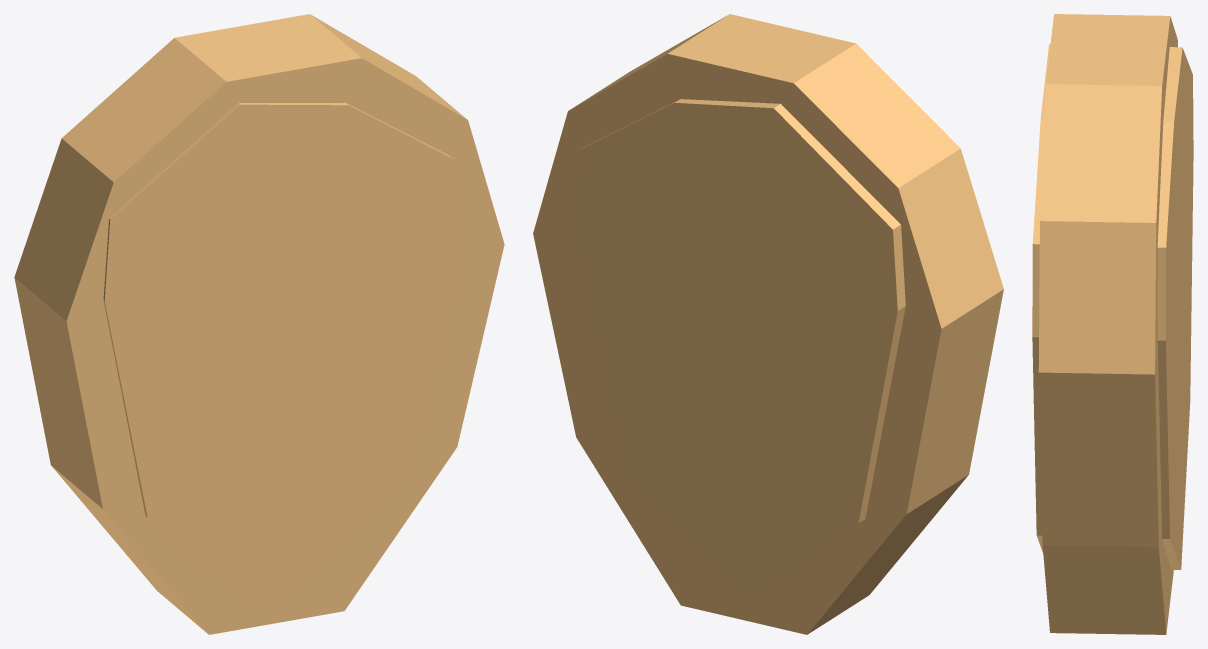
File: Squash seed.glb
3 views of the same model, side by side, from view 1: azimuth 30°, elevation 25°; view 2: azimuth 150°, elevation 25°; view 3: azimuth 270°, elevation 25° (orthographic).
Visible parts, largest first — view 1: group369606806, group1974478765; view 2: group369606806, group1974478765; view 3: group1974478765, group369606806.
Boxes of the visible parts, bbox=[...] form: group369606806: bbox=[103, 102, 460, 608]; group1974478765: bbox=[14, 14, 504, 634]; group369606806: bbox=[572, 99, 905, 606]; group1974478765: bbox=[533, 14, 1003, 634]; group1974478765: bbox=[1038, 14, 1177, 634]; group369606806: bbox=[1032, 43, 1193, 569].
Bounding box in the file's own units: 0.0707 × 0.0875 × 0.0227.
